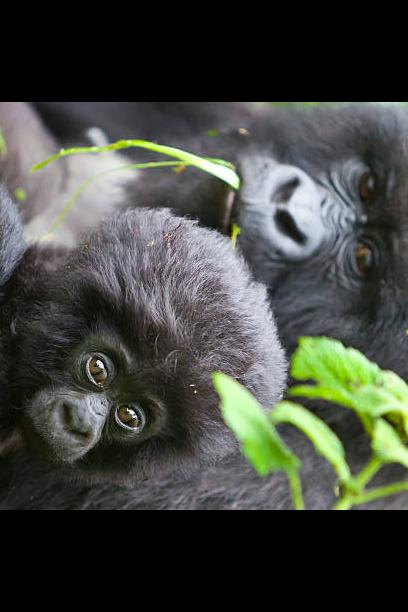goriile_montagne: (0, 112, 408, 510)
